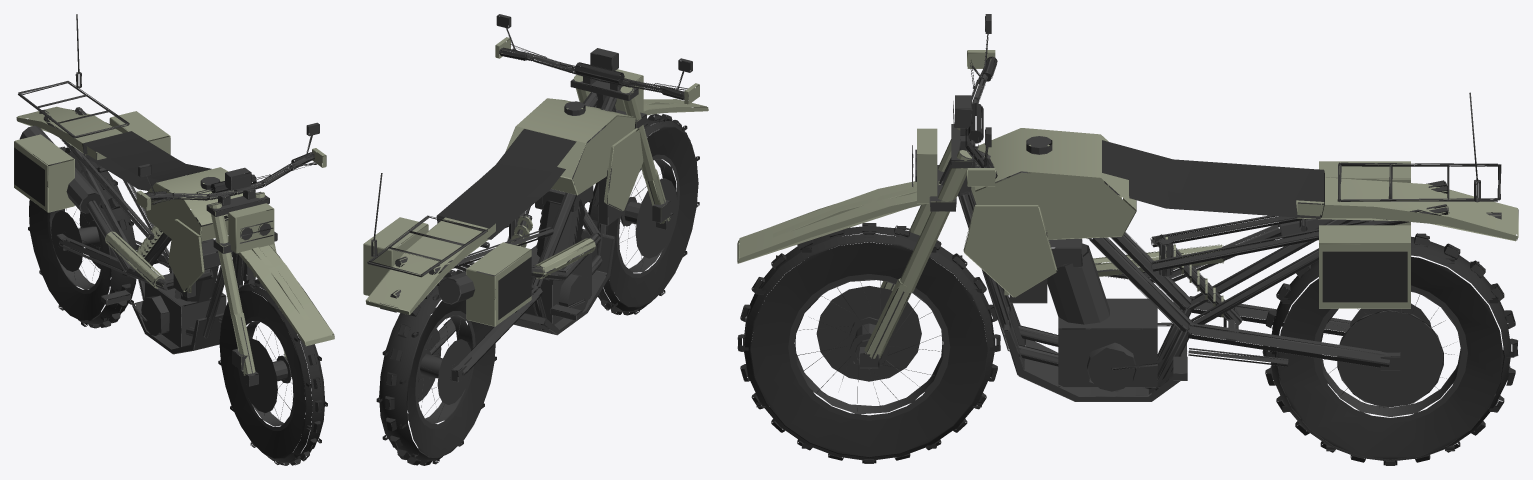
The model's file is bike.glb.
3 views of the same model, side by side, from view 1: azimuth 30°, elevation 25°; view 2: azimuth 150°, elevation 25°; view 3: azimuth 270°, elevation 25° (orthographic). The views are drawn at different scales.
Parts seen in each view (by area): view 1: body, handlebar, wheel_f, wheel_r; view 2: body, wheel_r, wheel_f, handlebar; view 3: body, wheel_f, wheel_r, handlebar.
Part boxes in pixels (x1,y1,x2,y2): body: [14, 14, 255, 354]; handlebar: [136, 122, 334, 386]; wheel_f: [218, 279, 327, 465]; wheel_r: [28, 146, 136, 328]; body: [363, 89, 643, 382]; wheel_r: [376, 270, 496, 465]; wheel_f: [588, 114, 699, 315]; handlebar: [495, 14, 708, 229]; body: [950, 92, 1518, 401]; wheel_f: [737, 223, 1000, 463]; wheel_r: [1262, 233, 1518, 465]; handlebar: [737, 14, 997, 368].
Bounding box in the file's own units: 0.79 × 1.19 × 2.16.
